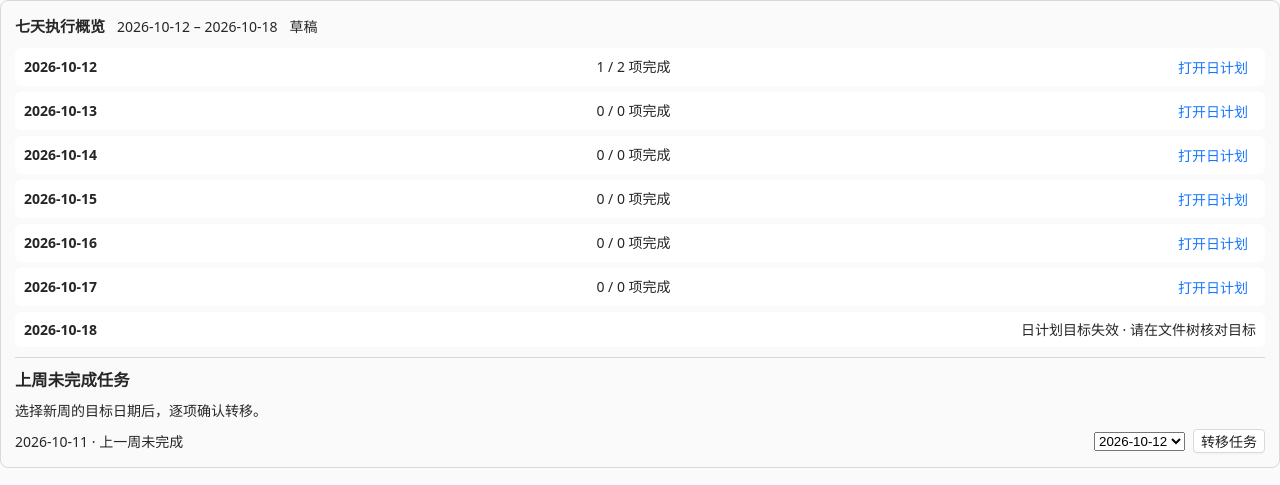
Scenario: week plan overview › requires an explicit action before carrying an unfinished task into the new week
The image size is (1280, 485).
Click the button "转移任务": [1229, 441] box [1193,429,1265,453]
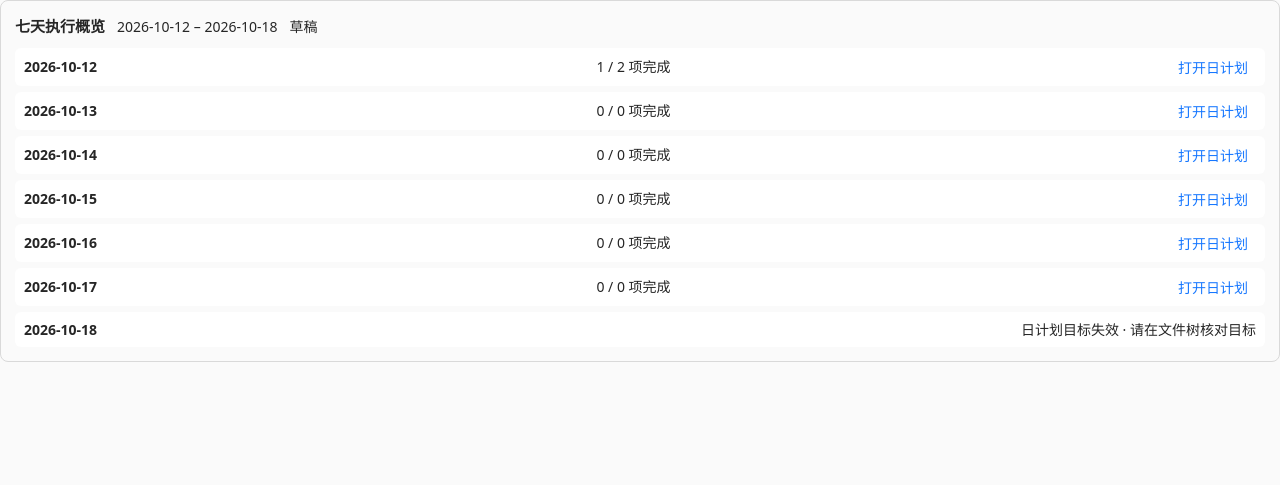
Expected: the text "上一周未完成" is gone
